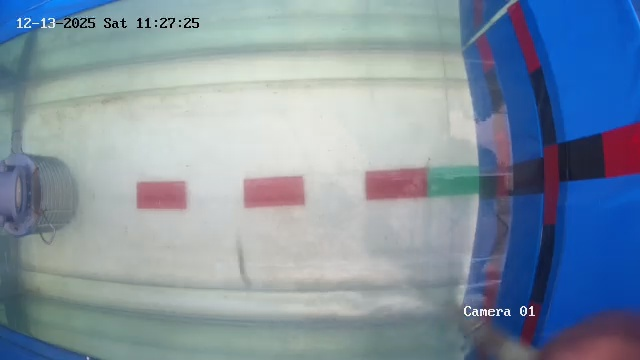fish: (229, 274, 265, 314)
